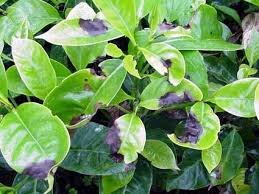mal de hilachas: (80, 83, 135, 175), (70, 6, 196, 45), (153, 83, 208, 152)
